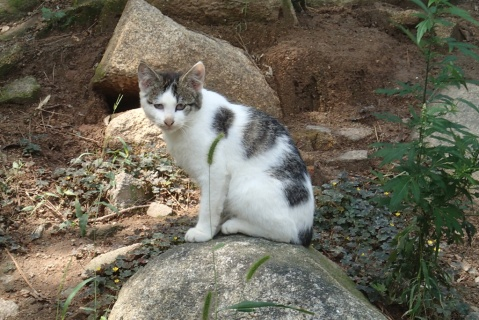Cat: (130, 55, 316, 247)
